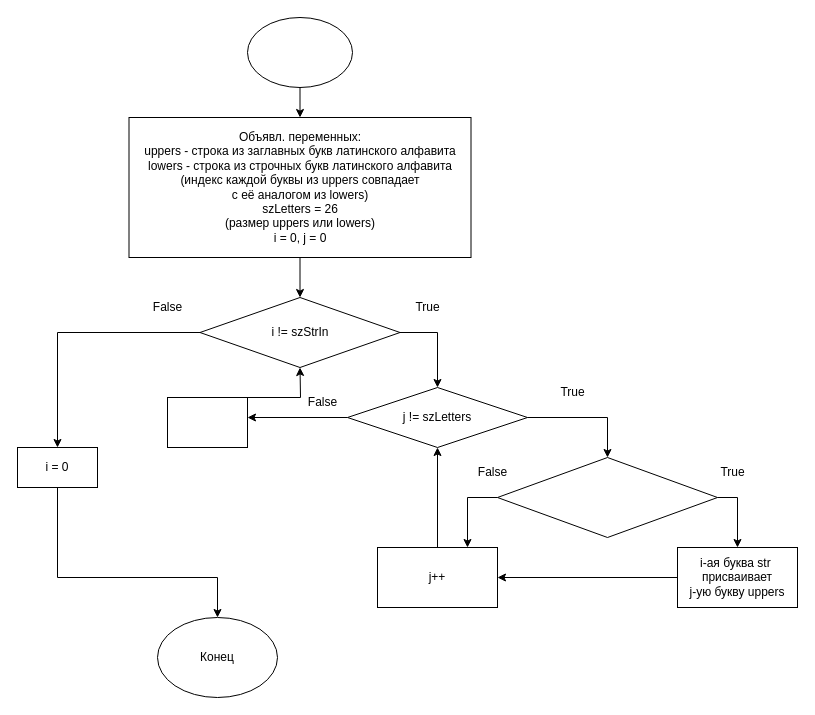
This 815x715 diagram has some shape labels left out. The box of each missing label's shape, as (x1, y1, x2, y2) in pixels:
i-ая буква str равняется j-ой букве lowers?: (496, 456, 718, 538)
j = 0, i++: (166, 396, 248, 448)
Начало: (246, 16, 352, 88)
